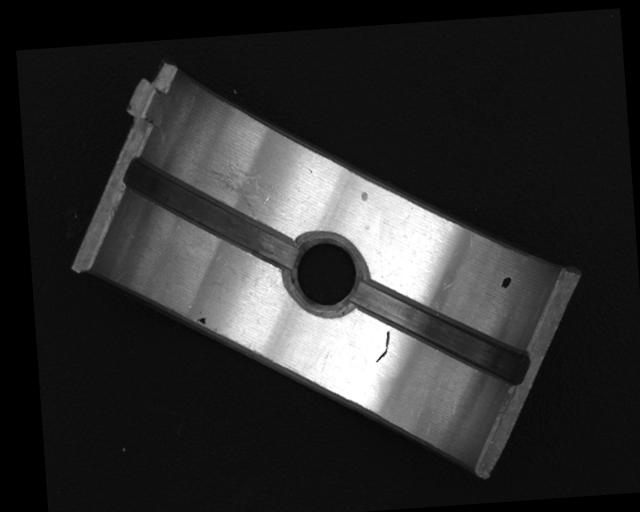blot: (500, 275, 513, 290), (196, 315, 207, 326)
bruise: (359, 190, 369, 204)
gap: (126, 147, 298, 280), (356, 268, 522, 392)
hole: (283, 233, 366, 318)
nick: (374, 329, 393, 362)
scratch: (189, 152, 270, 223)
